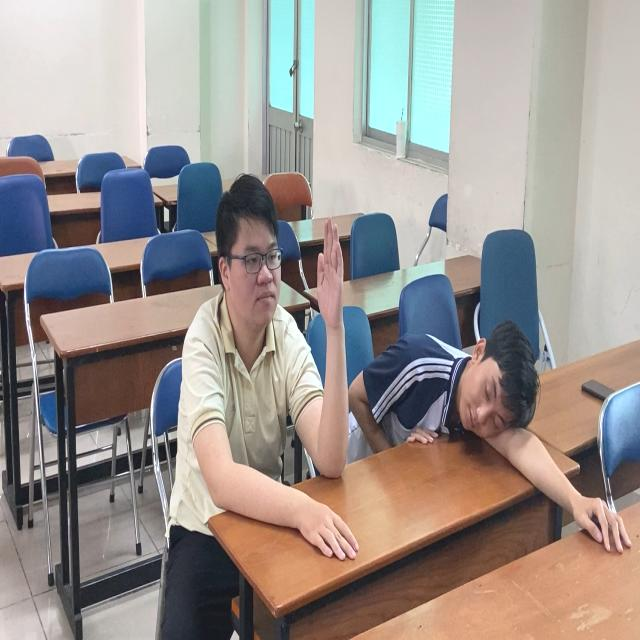raise_hand: (176, 161, 365, 537)
sleep: (347, 306, 580, 474)
